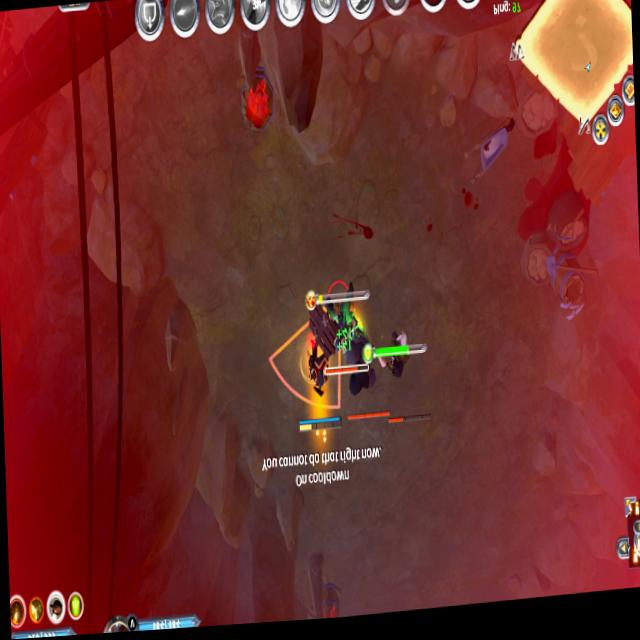ore: (372, 313, 440, 440), (310, 265, 370, 382), (337, 296, 389, 427)
red: (294, 329, 346, 440)
silver: (270, 297, 343, 410)
